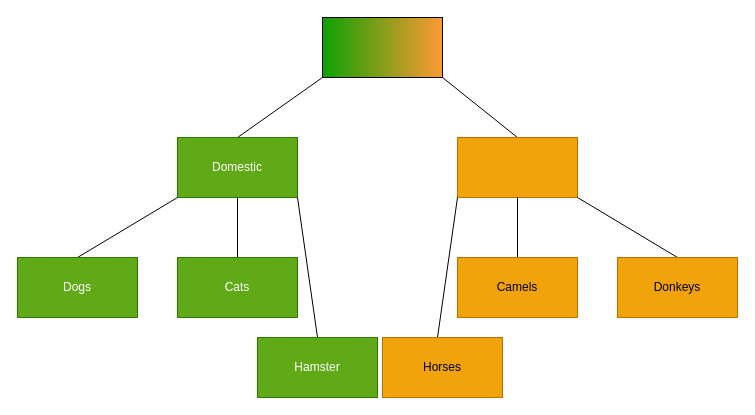
The diagram is 755 pixels wide and 415 high, and some of its shapes have lost their labels. The shapes that lost their labels are listed below. From the top down, each one's centre as x and y in pixels, then its label:
(382,47): Animal
(517,167): PackAnimals
